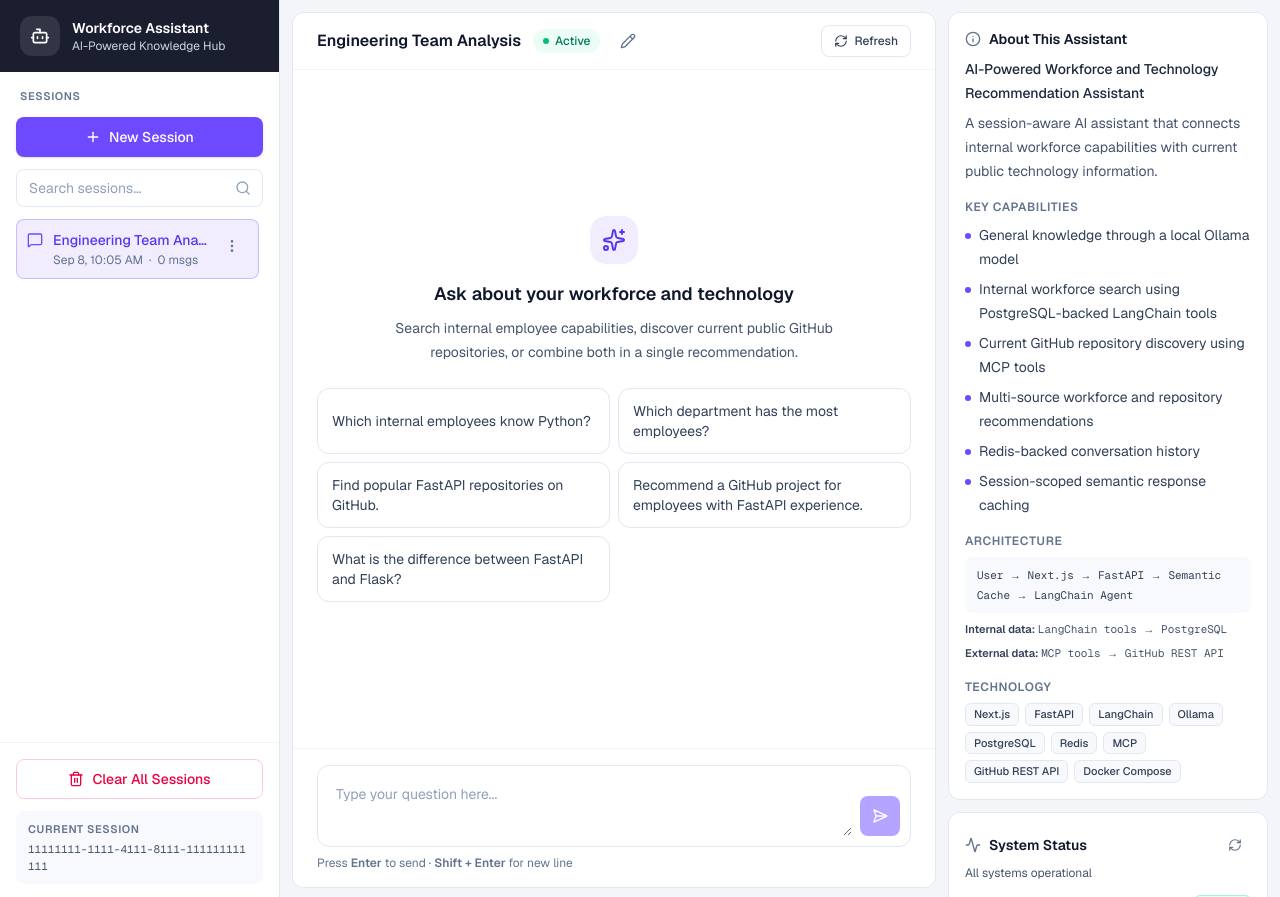
Test case: WorkspaceScreen › sends a question, shows the answer, and refreshes the session list
Type "Which internal employees know Python?" into the text box named "ask the assistant" at (590, 806), box [328,776,852,836]
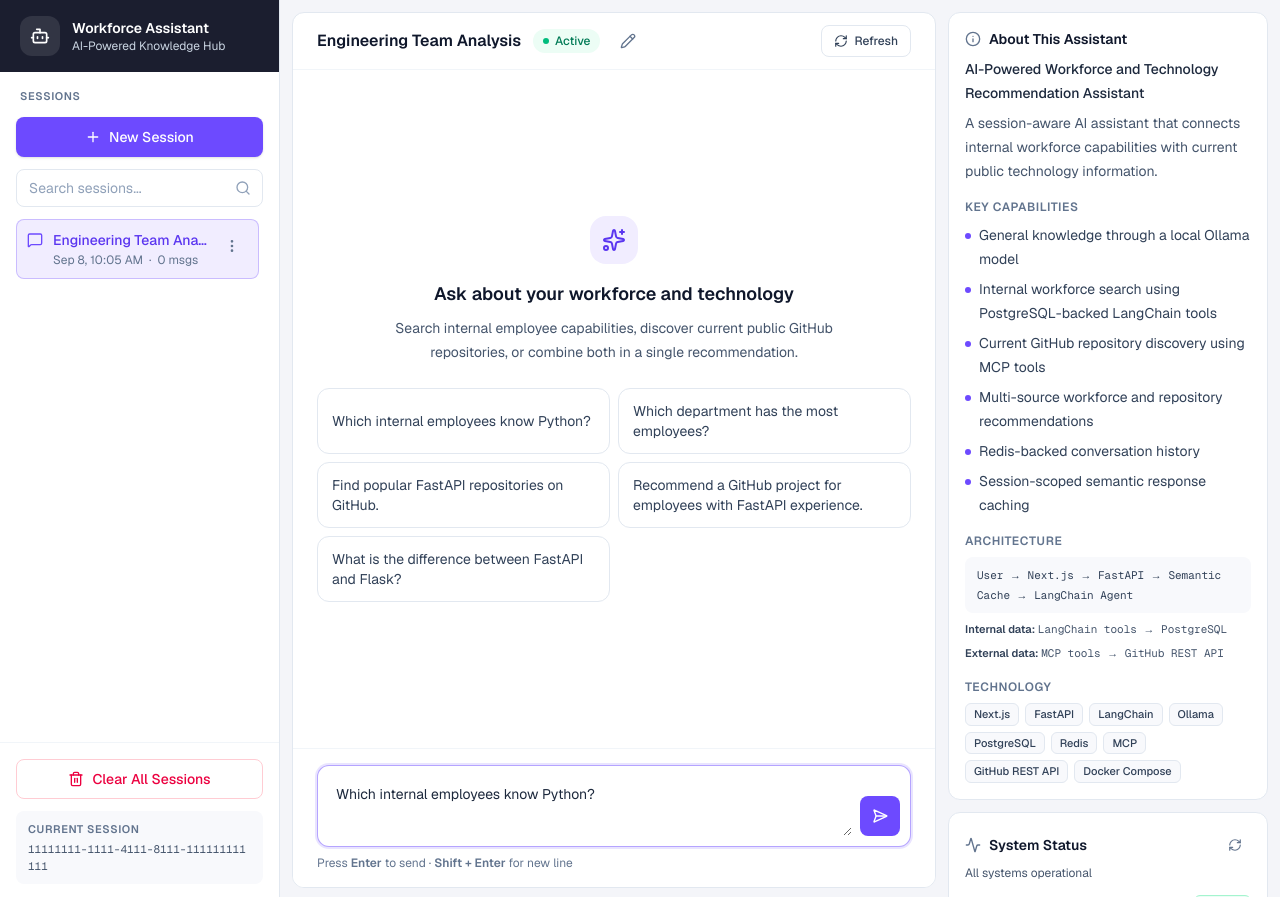
Press Enter
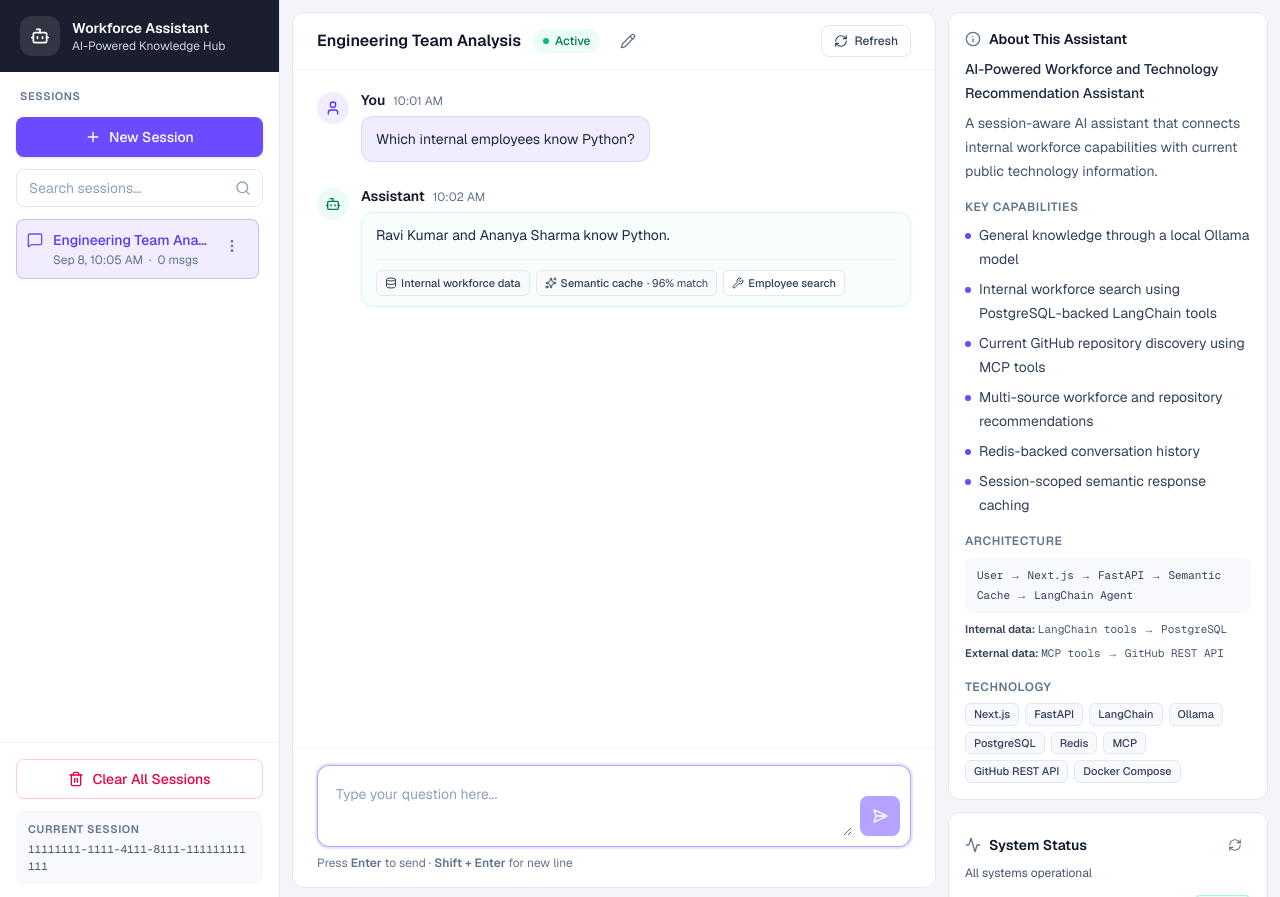
Expected: the text "Ravi Kumar and Ananya Sharma know Python." is shown, [376,226,670,244]
Expected: the text "Which internal employees know Python?" is shown once, [376,127,635,151]
Expected: the text "Semantic cache · 96% match" is shown, [536,270,717,296]
